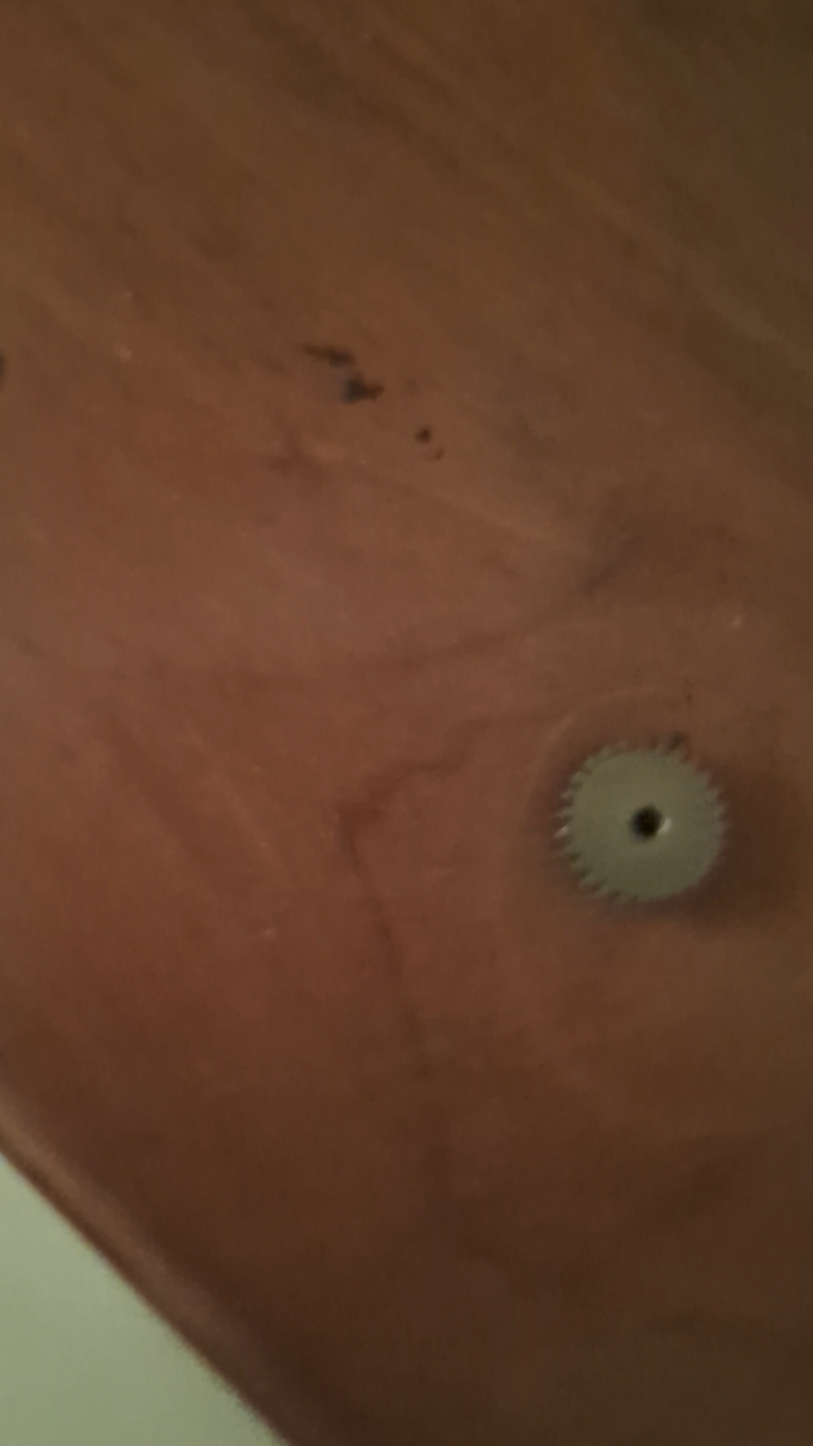spur gear: (558, 746, 723, 903)
